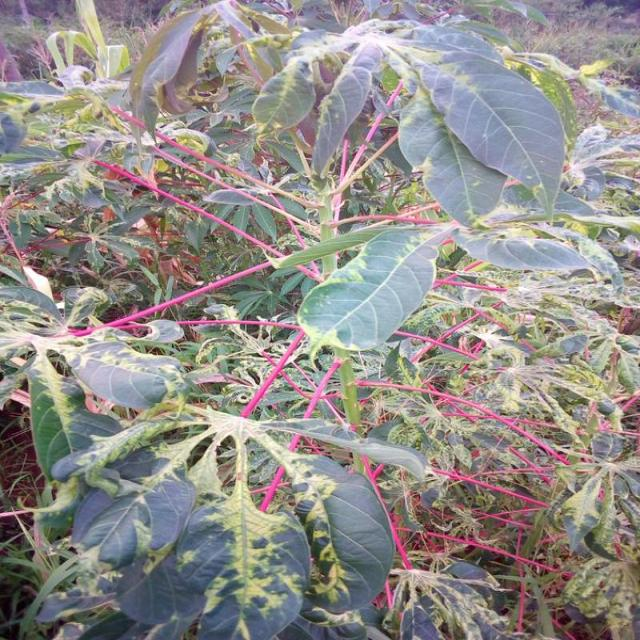cassava leaf: (2, 1, 635, 638), (390, 23, 566, 226), (296, 224, 442, 358)
